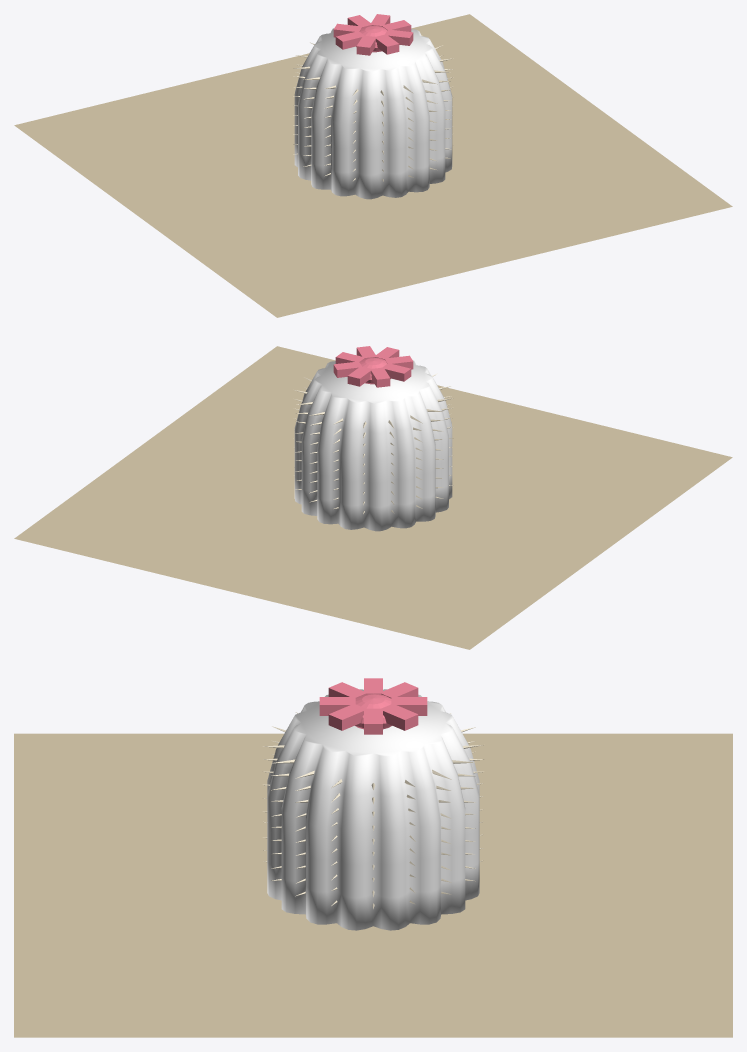
3 renders of one model, top to bottom at view 1: azimuth 30°, elevation 25°; view 2: azimuth 150°, elevation 25°; view 3: azimuth 270°, elevation 25°, orthographic. The views are drawn at different scales.
Bounding box in the file's own units: 6 × 1.72 × 6.
